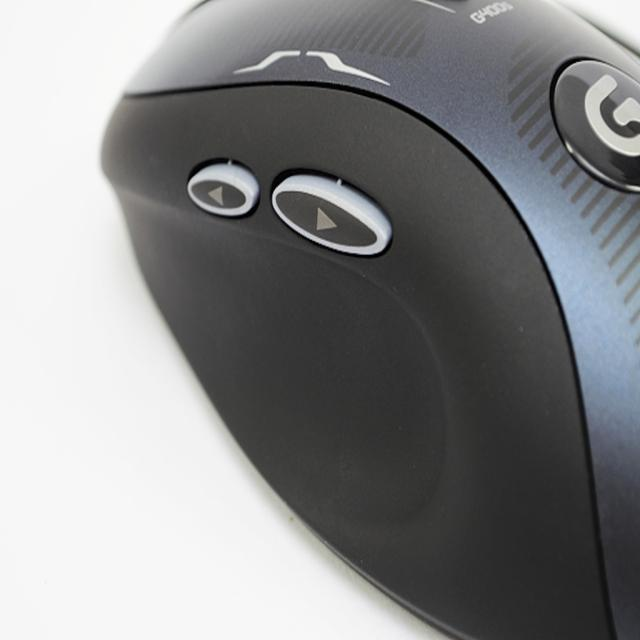Computer-mouse: (98, 0, 639, 639)
